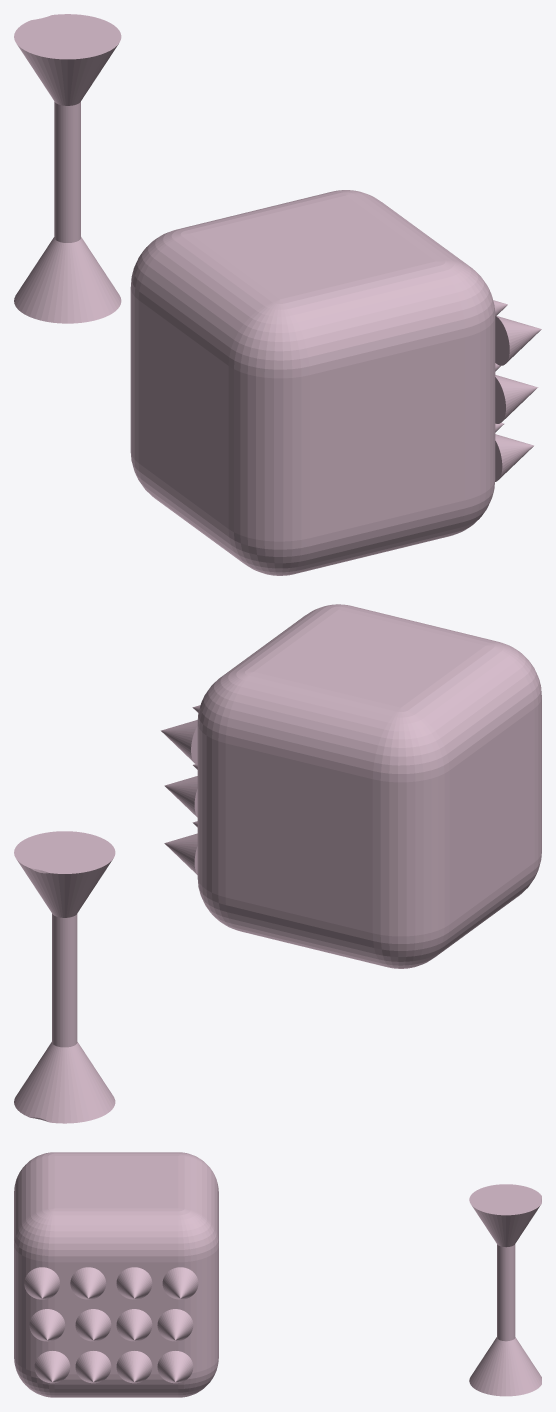
The model's file is Terrific Bruticus-Robo.glb.
The picture shows the model from 3 angles, top to bottom: view 1: azimuth 30°, elevation 25°; view 2: azimuth 150°, elevation 25°; view 3: azimuth 270°, elevation 25°; orthographic projection. The views are drawn at different scales.
Visible parts, largest first — view 1: Mesh_Mesh_head_geo.001_lambert2SG.001; view 2: Mesh_Mesh_head_geo.001_lambert2SG.001; view 3: Mesh_Mesh_head_geo.001_lambert2SG.001.
Boxes of the visible parts, x1=… form: Mesh_Mesh_head_geo.001_lambert2SG.001: x1=14, y1=14, x2=541, y2=575; Mesh_Mesh_head_geo.001_lambert2SG.001: x1=14, y1=604, x2=541, y2=1123; Mesh_Mesh_head_geo.001_lambert2SG.001: x1=14, y1=1152, x2=541, y2=1397.
Bounding box in the file's own units: 0.047 × 0.04 × 0.103.
